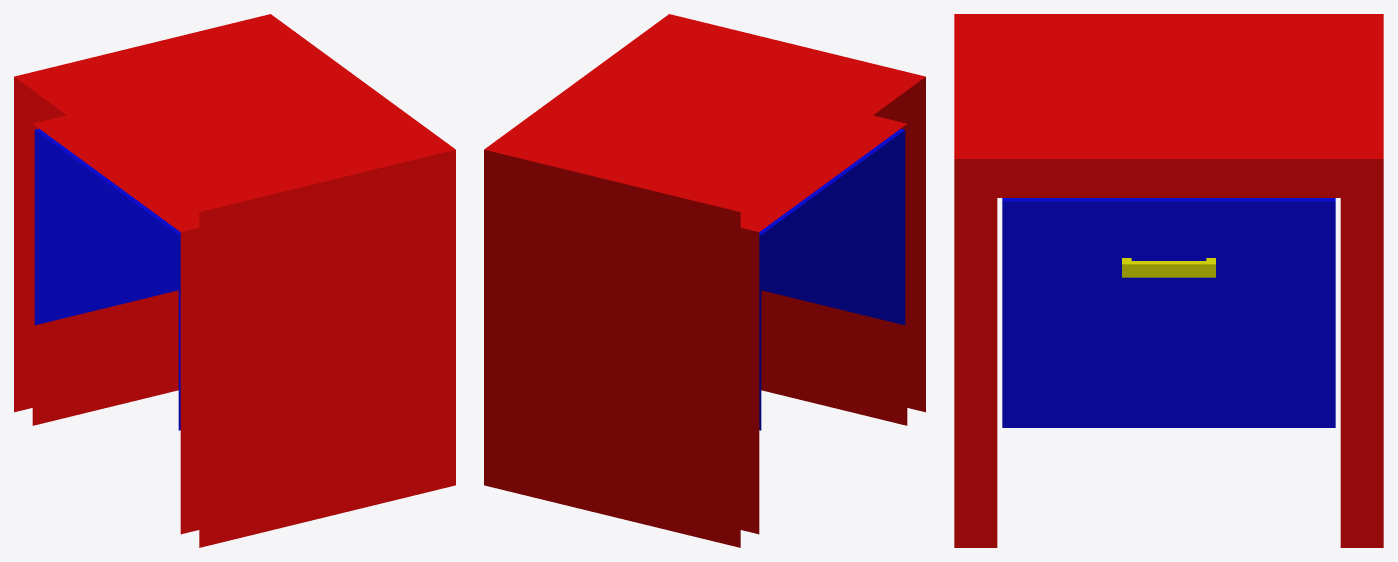
Rendered from Küchentheke_2_gerade_low.fbx.
3 renders of one model, left to right at view 1: azimuth 30°, elevation 25°; view 2: azimuth 150°, elevation 25°; view 3: azimuth 270°, elevation 25°, orthographic. The views are drawn at different scales.
Visible parts, largest first — view 1: Küchentheke_2_gerade_low2; view 2: Küchentheke_2_gerade_low2; view 3: Küchentheke_2_gerade_low2.
Part boxes in pixels (x1,y1,x2,y2): Küchentheke_2_gerade_low2: [14, 14, 455, 547]; Küchentheke_2_gerade_low2: [484, 14, 925, 547]; Küchentheke_2_gerade_low2: [954, 14, 1383, 547].
Bounding box in the file's own units: 0.8236 × 1 × 1.
